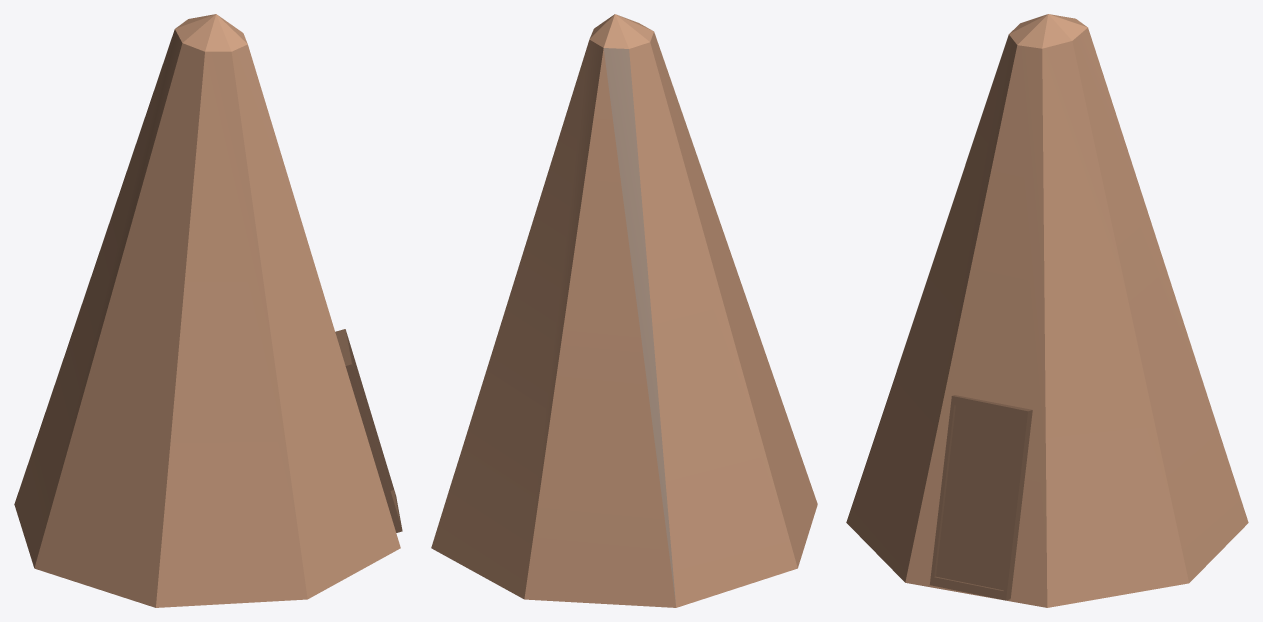
The model's file is treeHouse01.fbx.
3 views of the same model, side by side, from view 1: azimuth 30°, elevation 25°; view 2: azimuth 150°, elevation 25°; view 3: azimuth 270°, elevation 25° (orthographic).
Visible parts, largest first — view 1: treeHouse01; view 2: treeHouse01; view 3: treeHouse01.
Boxes of the visible parts, bbox=[...] form: treeHouse01: bbox=[14, 14, 402, 607]; treeHouse01: bbox=[431, 14, 817, 607]; treeHouse01: bbox=[846, 14, 1248, 607].
Size of the model in its own units: 85.59 by 120 by 85.5.
Materials: 3 (3 with a texture image).
